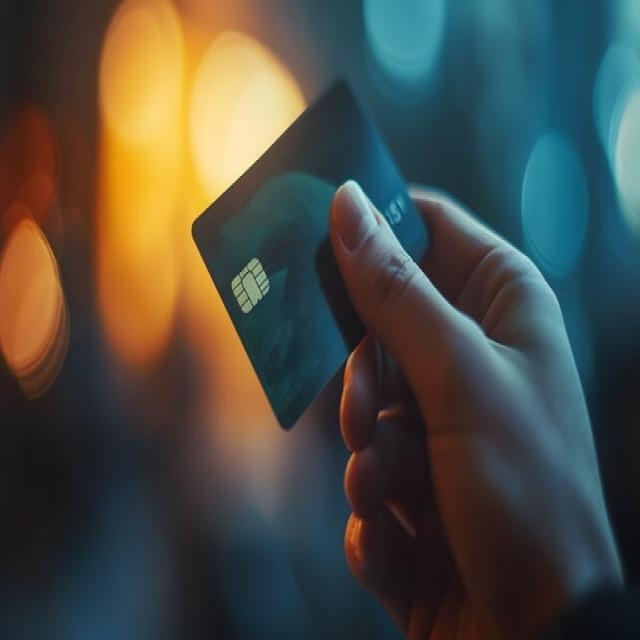payment_card: (189, 76, 430, 430)
